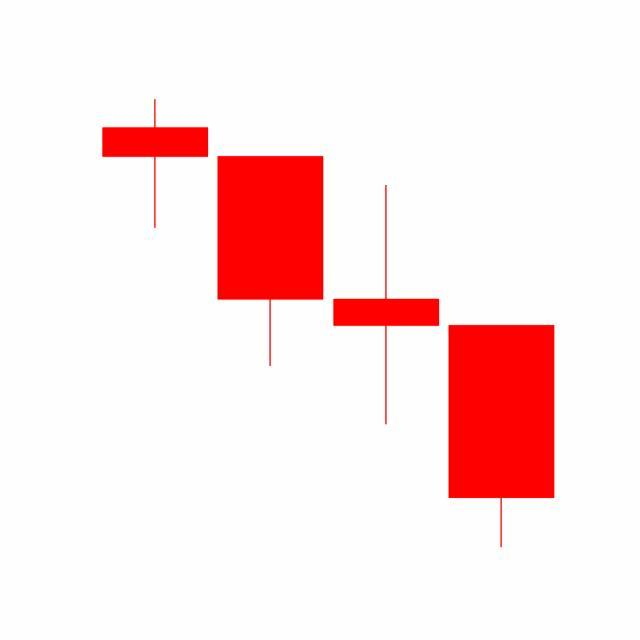Spinning Top: (329, 183, 445, 429)
